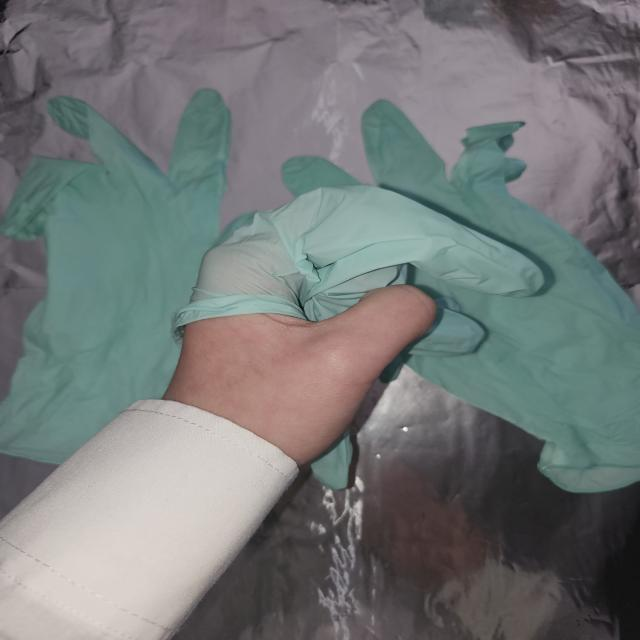glove_partial: (166, 182, 549, 492)
